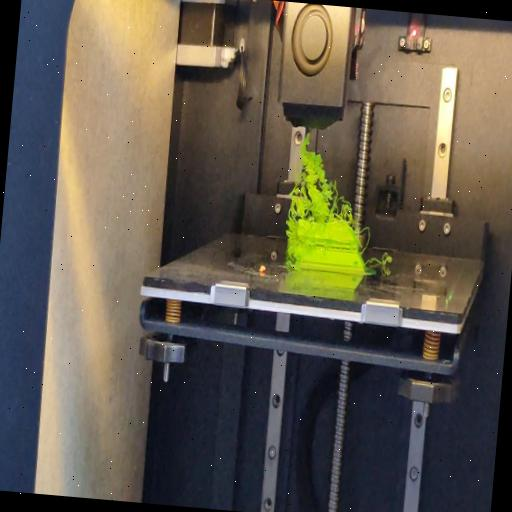spaghetti: (287, 135, 368, 229), (366, 246, 394, 272), (282, 223, 296, 268), (358, 224, 374, 254)
